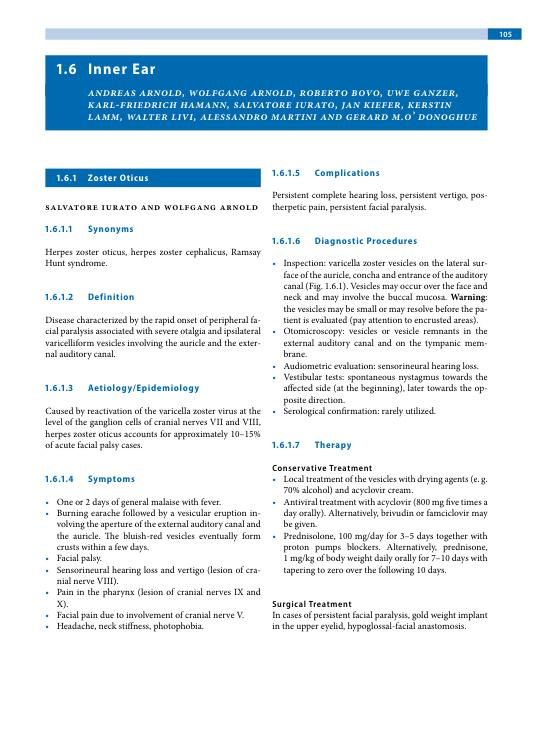chapter-heading: (87, 61, 157, 77)
list: (270, 257, 489, 419), (43, 497, 262, 633), (271, 474, 489, 577)
section-heading: (87, 173, 151, 183)
sub-section-heading: (86, 382, 200, 394), (314, 236, 418, 248), (271, 463, 373, 472), (271, 600, 352, 610), (313, 168, 381, 179), (87, 473, 136, 485), (87, 291, 136, 302), (86, 224, 134, 235), (313, 440, 353, 451)
text: (44, 315, 262, 361), (44, 405, 262, 451), (271, 190, 488, 214), (44, 246, 262, 269), (271, 610, 488, 633)
